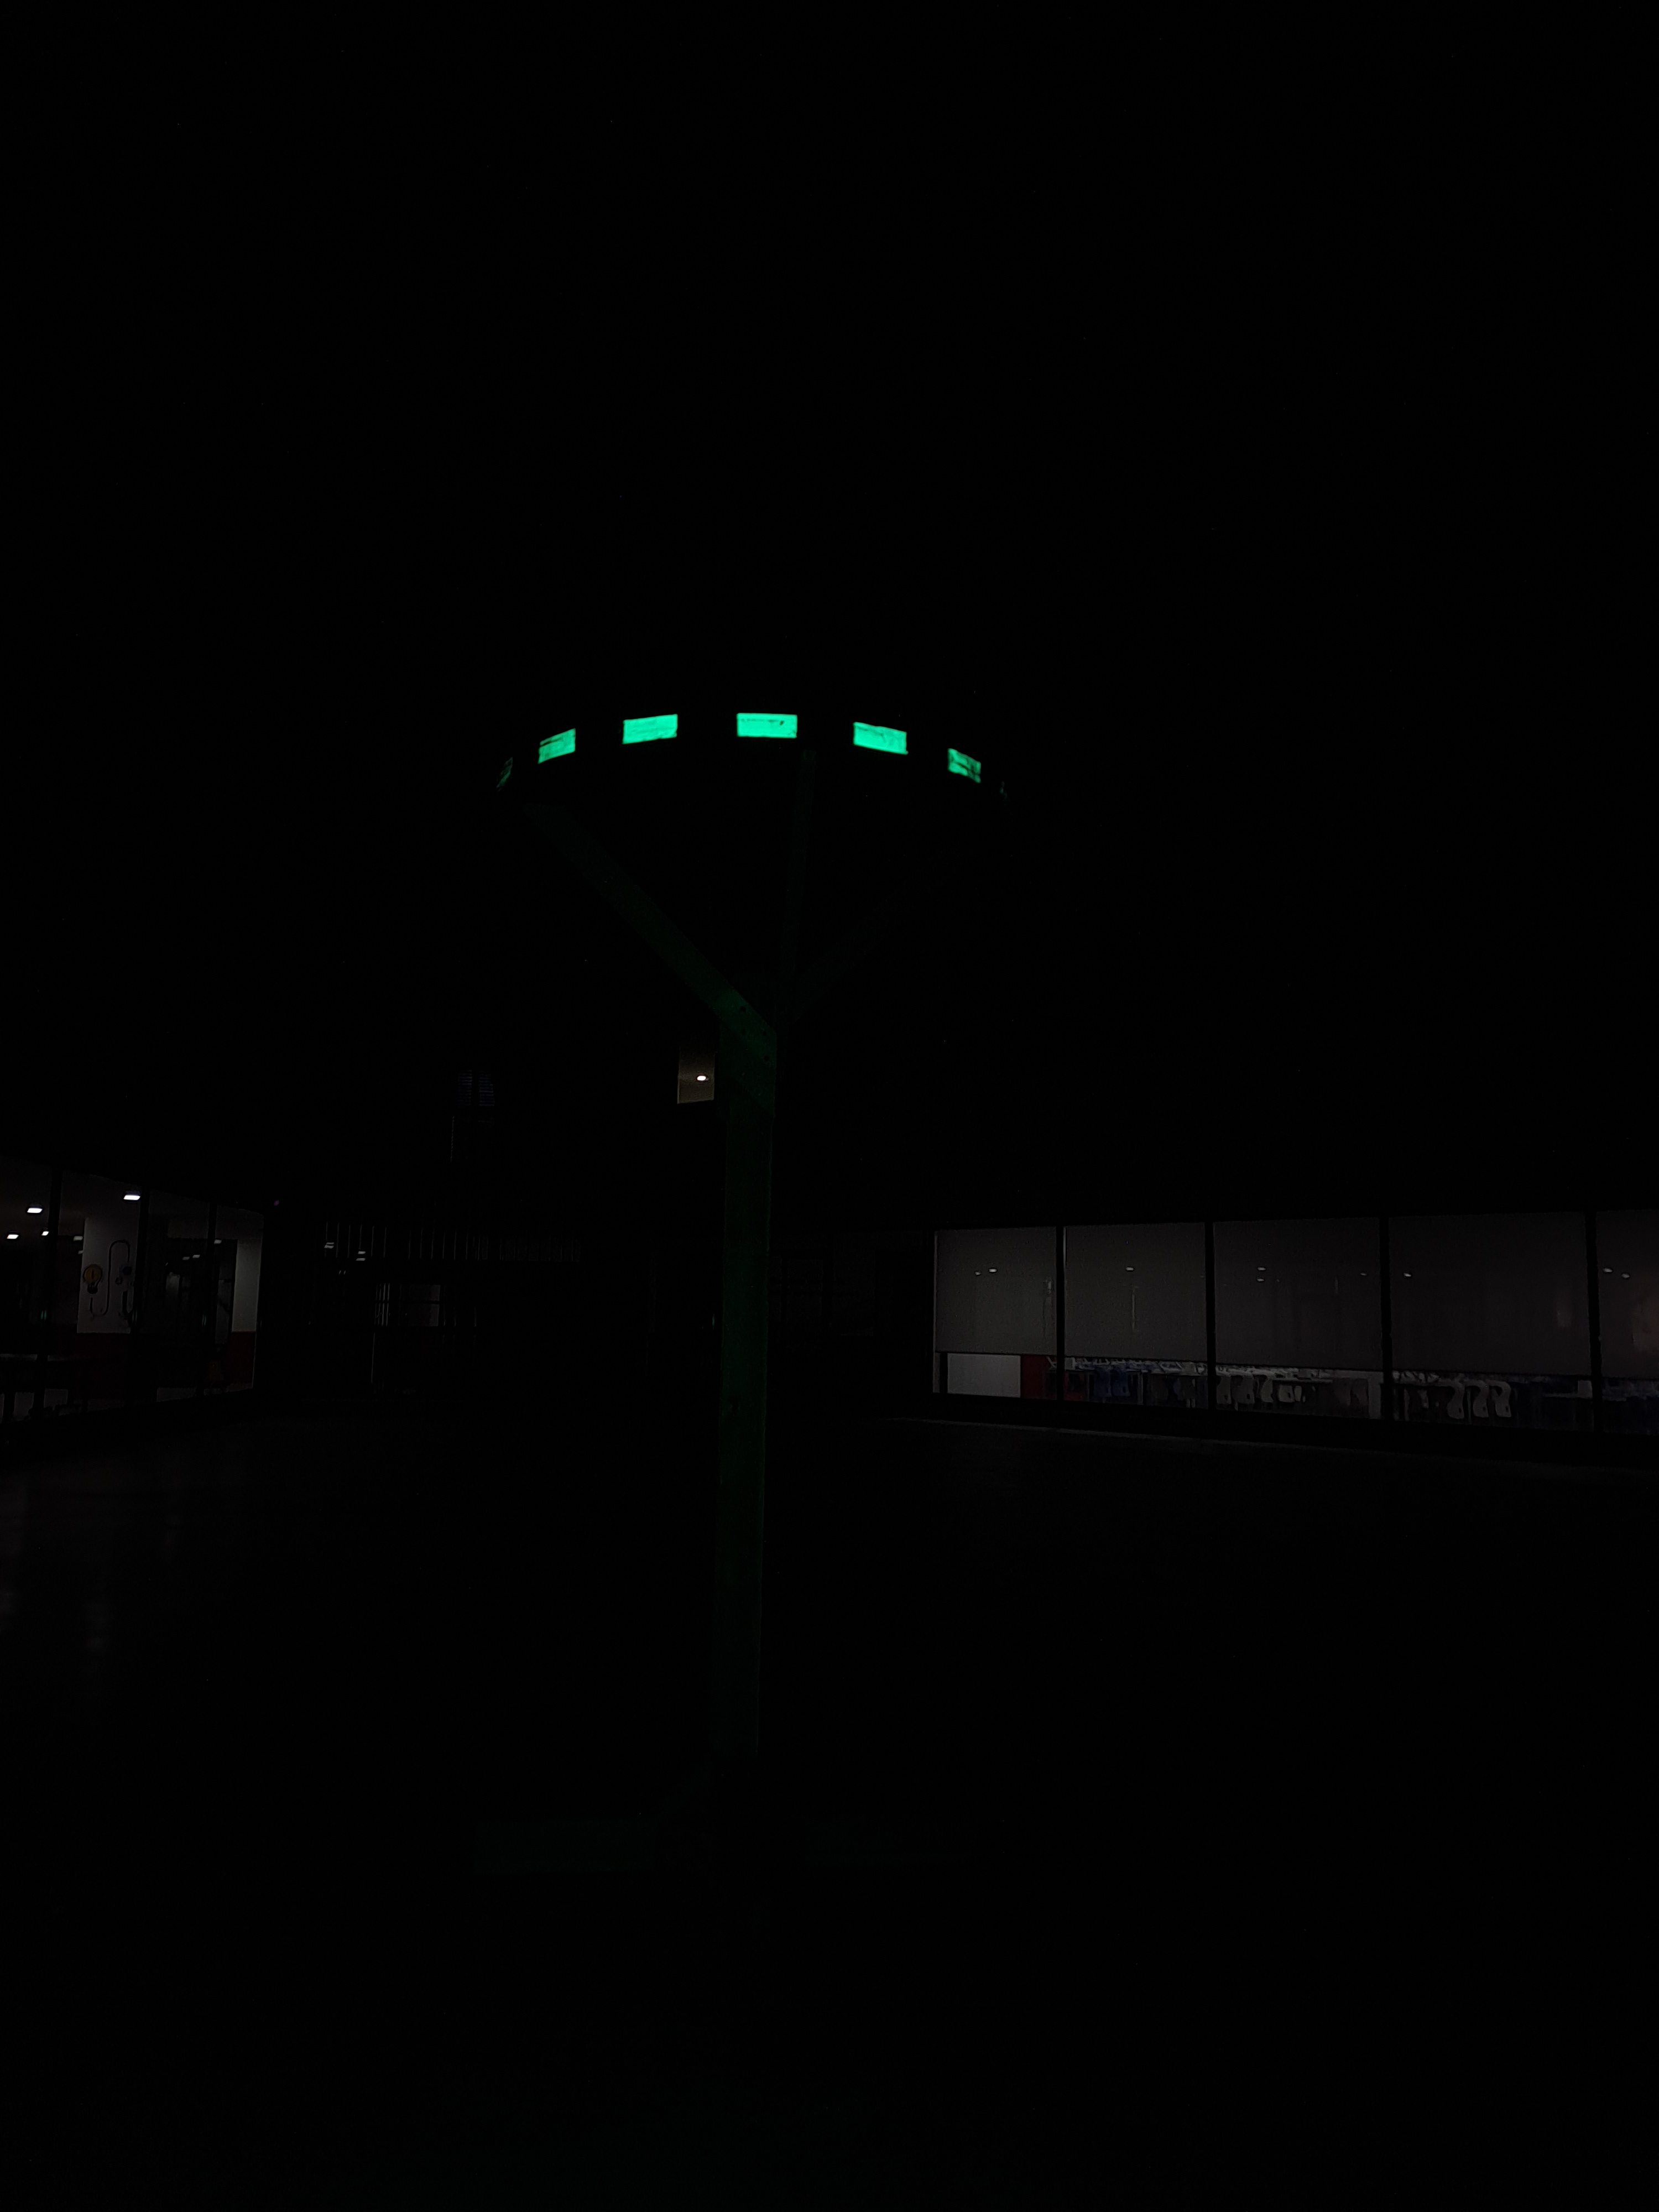hoop: (533, 702, 985, 799)
